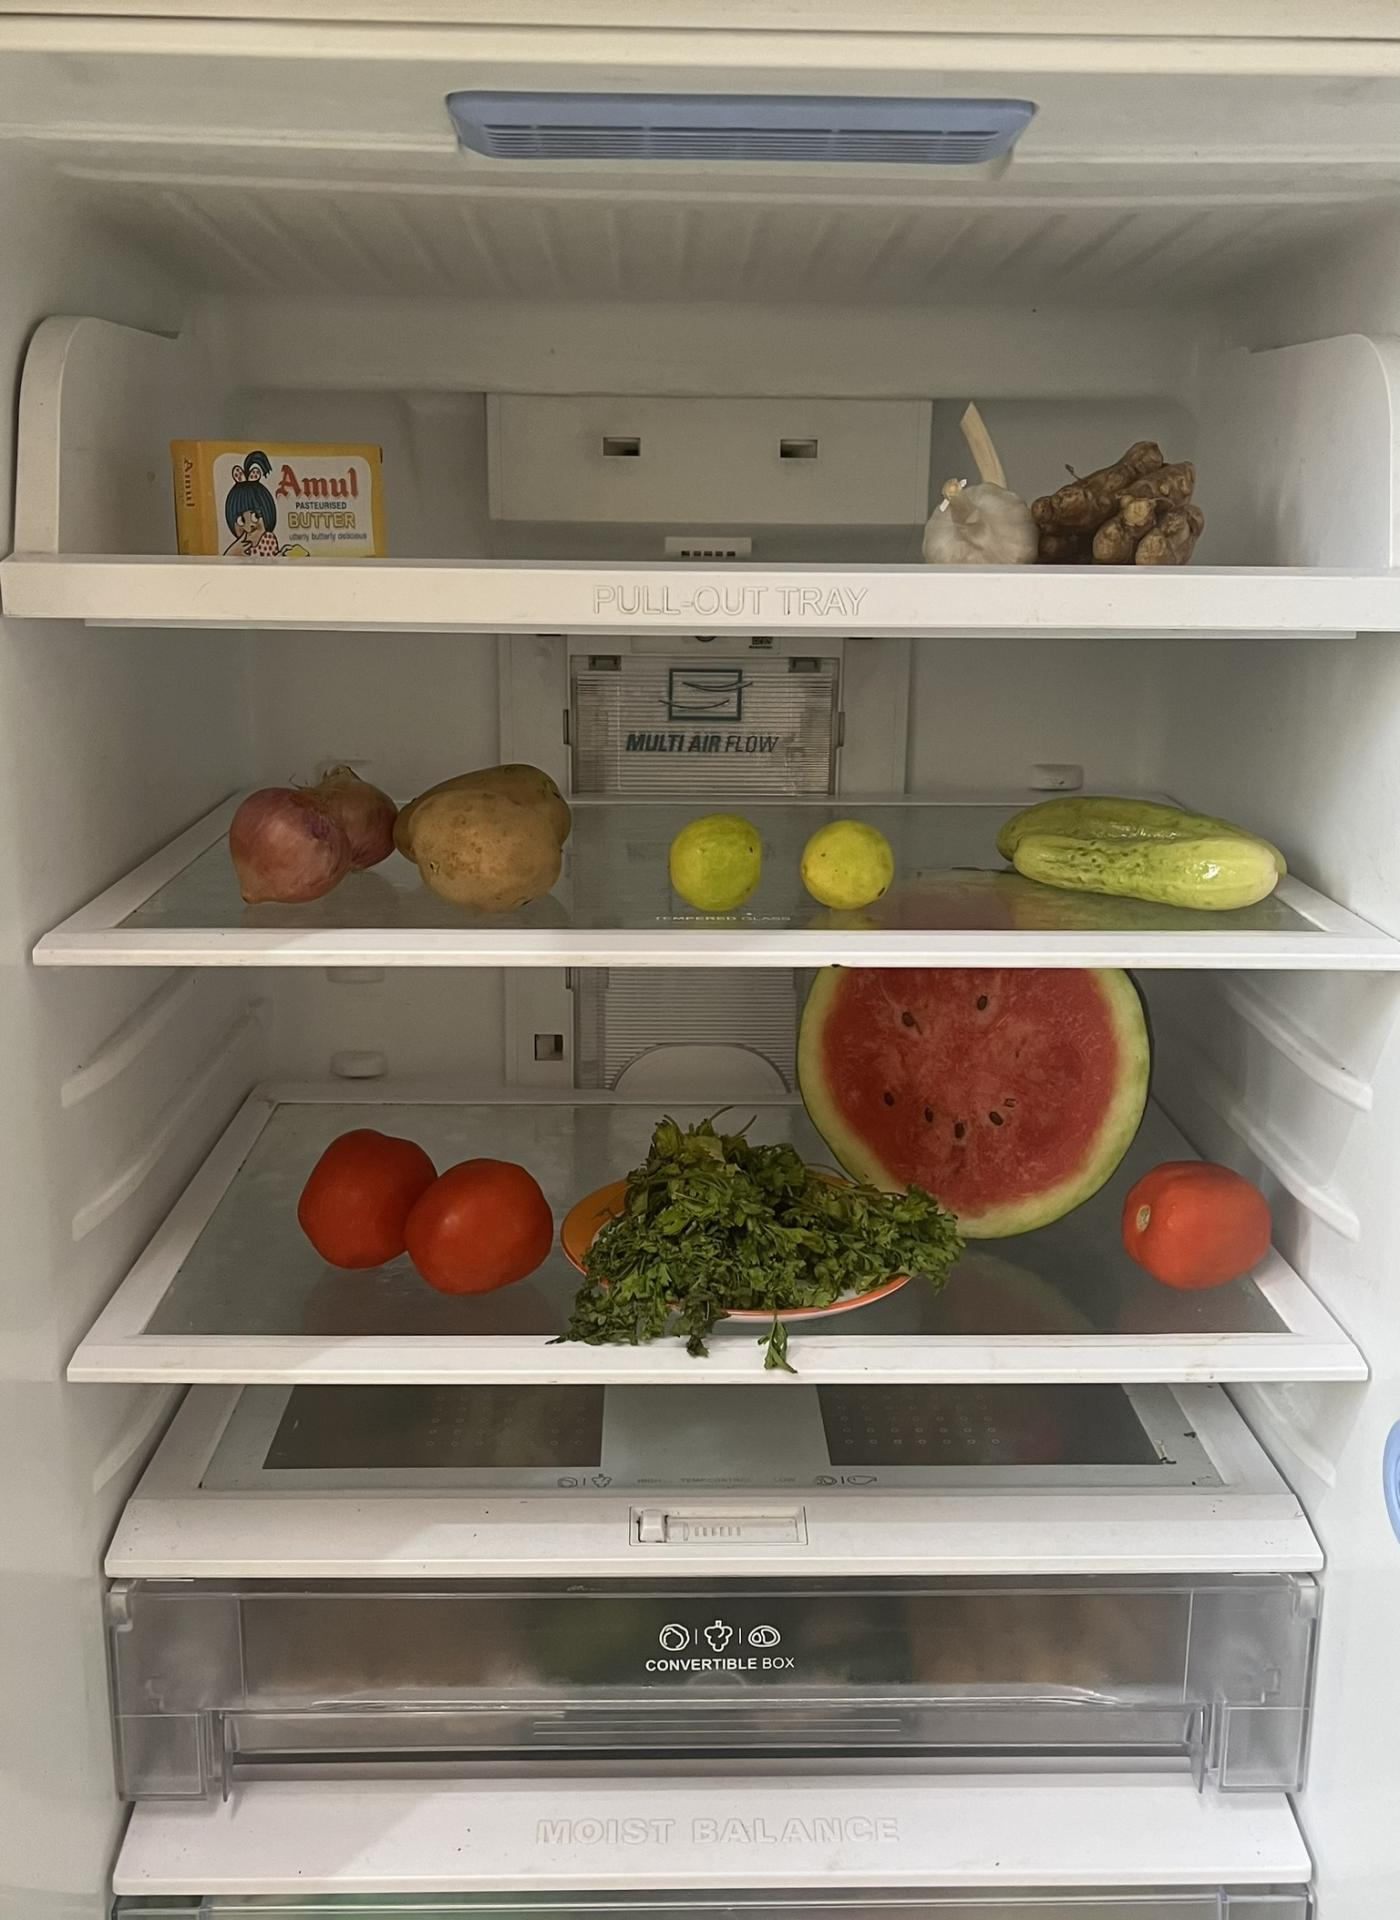butter: (165, 432, 380, 558)
coriander: (571, 1127, 942, 1334)
cucumber: (1005, 799, 1288, 908)
garlic: (935, 395, 1030, 565)
ginger: (1036, 423, 1203, 559)
lemon: (675, 808, 886, 918)
onion: (230, 771, 410, 890)
potato: (412, 762, 584, 912)
tomato: (307, 1112, 549, 1280), (1132, 1164, 1285, 1286)
watermelon: (795, 957, 1153, 1230)
